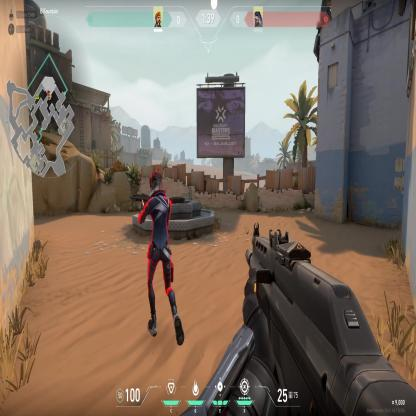enemy: (142, 169, 186, 349)
